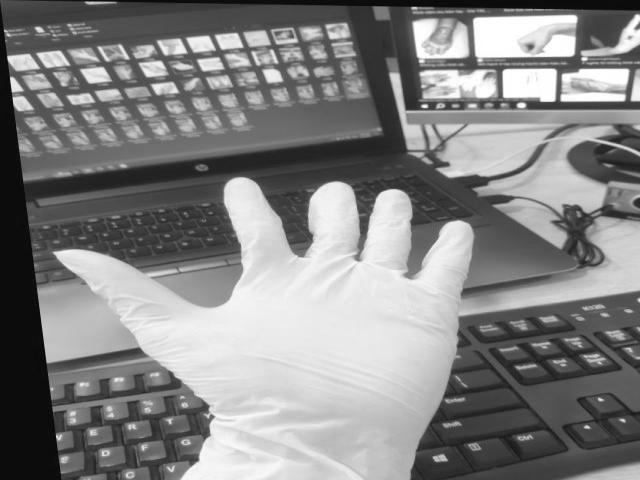gloved: (54, 175, 474, 480)
